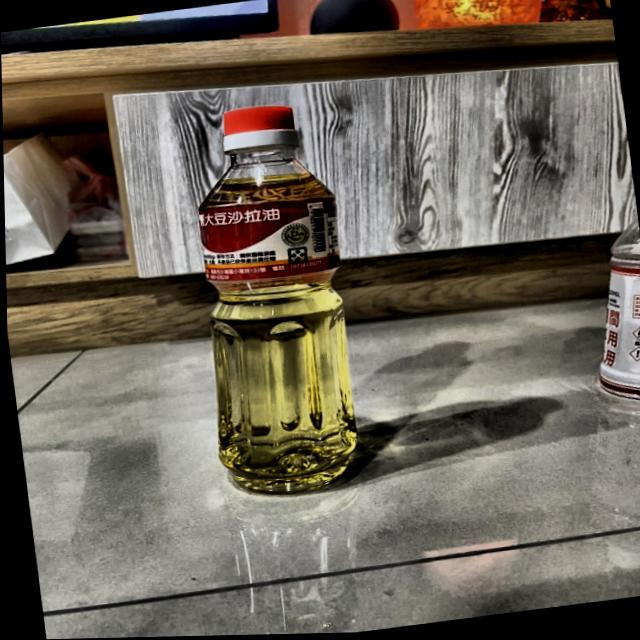Bottles: (175, 91, 378, 513)
